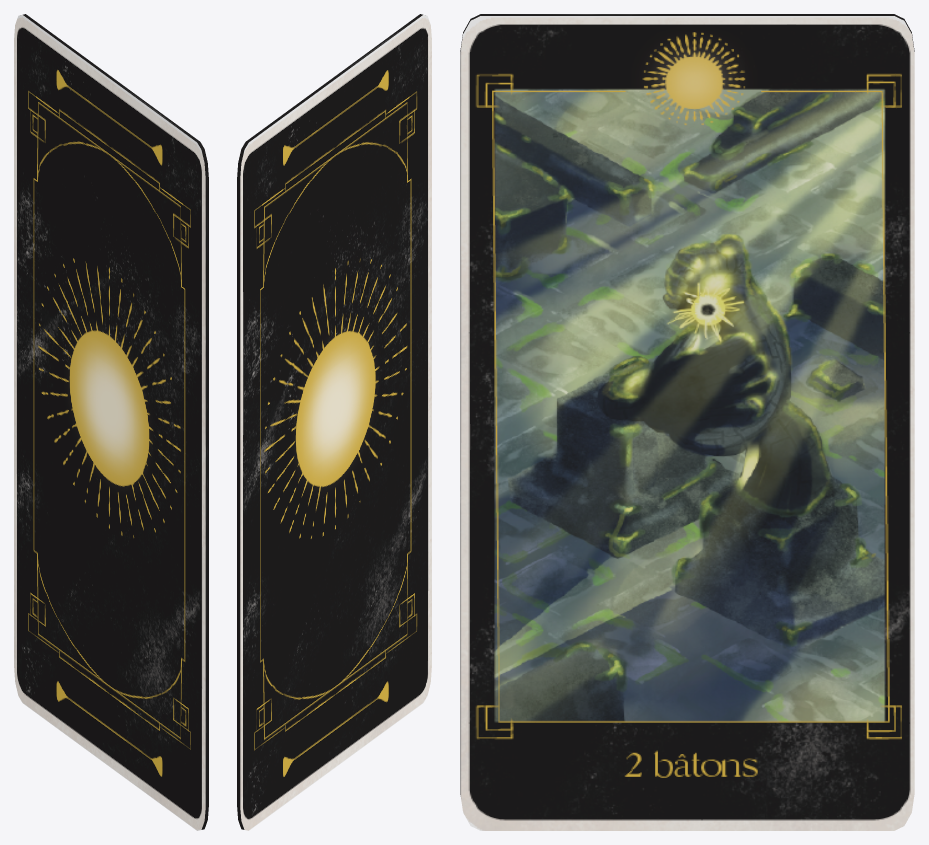
Rendered from 2_batons.gltf.
The picture shows the model from 3 angles, left to right: view 1: azimuth 30°, elevation 25°; view 2: azimuth 150°, elevation 25°; view 3: azimuth 270°, elevation 25°; orthographic projection. The views are drawn at different scales.
Visible parts, largest first — view 1: 2 Batons; view 2: 2 Batons; view 3: 2 Batons.
Part boxes in pixels (x1,y1,x2,y2): 2 Batons: (14,14,208,830); 2 Batons: (237,14,431,830); 2 Batons: (460,14,914,830).
Size of the model in its own units: 0.0191 by 3.96 by 2.
1 material, 1 textured.
